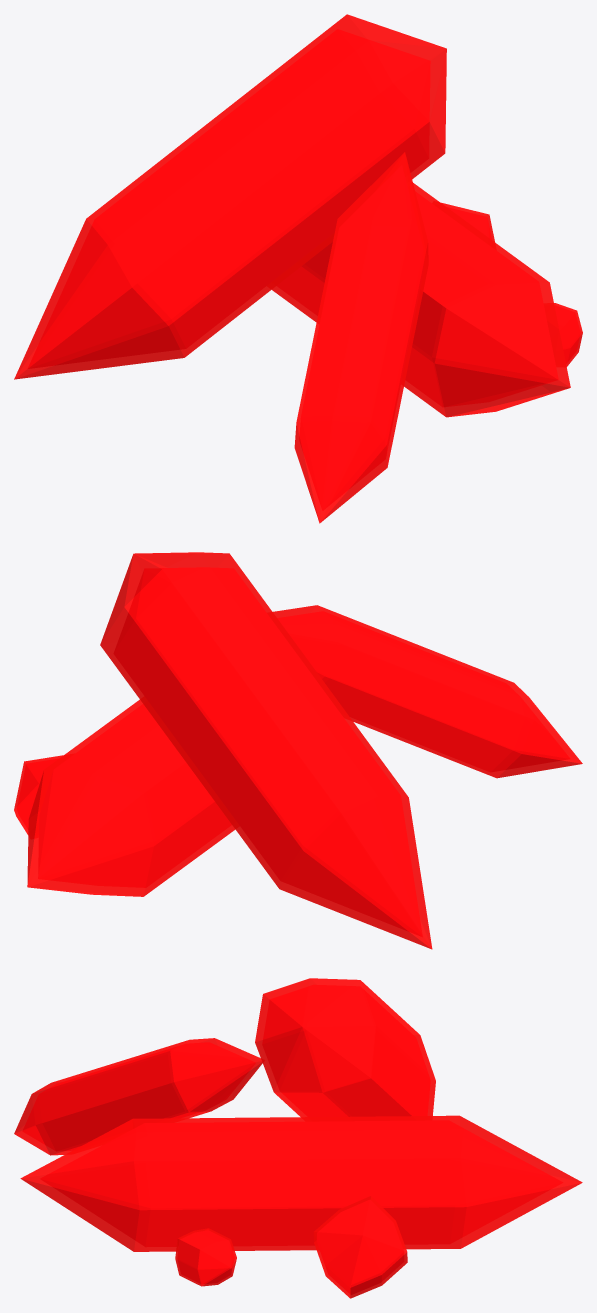
File: crystals.glb
3 views of the same model, one above another, from view 1: azimuth 30°, elevation 25°; view 2: azimuth 150°, elevation 25°; view 3: azimuth 270°, elevation 25° (orthographic). The views are drawn at different scales.
Parts seen in each view (by area): view 1: Icosphere.003, Icosphere.006, Icosphere.002, Icosphere.001, Icosphere.008, Icosphere.007, Icosphere.004, Icosphere.010, Icosphere.005; view 2: Icosphere.003, Icosphere.006, Icosphere.001, Icosphere.002, Icosphere.007, Icosphere.008, Icosphere.005, Icosphere.009; view 3: Icosphere.001, Icosphere.007, Icosphere.003, Icosphere.006, Icosphere.002, Icosphere.008, Icosphere.005, Icosphere.009, Icosphere.004, Icosphere.010.
Part boxes in pixels (box(x1,y1,x2,y2)): Icosphere.003: box(14, 14, 446, 379); Icosphere.006: box(28, 29, 430, 368); Icosphere.002: box(294, 152, 428, 523); Icosphere.001: box(272, 183, 570, 417); Icosphere.008: box(299, 165, 423, 510); Icosphere.007: box(277, 192, 558, 406); Icosphere.004: box(554, 303, 582, 366); Icosphere.010: box(555, 305, 580, 363); Icosphere.005: box(441, 202, 494, 242); Icosphere.003: box(100, 552, 432, 949); Icosphere.006: box(114, 567, 422, 936); Icosphere.001: box(27, 699, 235, 896); Icosphere.002: box(272, 605, 582, 778); Icosphere.007: box(38, 704, 231, 887); Icosphere.008: box(277, 611, 569, 771); Icosphere.005: box(14, 755, 63, 834); Icosphere.009: box(17, 759, 57, 828); Icosphere.001: box(20, 1115, 582, 1251); Icosphere.007: box(40, 1120, 562, 1246); Icosphere.003: box(255, 978, 435, 1117); Icosphere.006: box(262, 985, 430, 1116); Icosphere.002: box(14, 1038, 262, 1155); Icosphere.008: box(23, 1042, 255, 1151); Icosphere.005: box(313, 1196, 407, 1298); Icosphere.009: box(317, 1200, 403, 1294); Icosphere.004: box(175, 1228, 236, 1286); Icosphere.010: box(177, 1230, 234, 1283).
Size of the model in its own units: 0.4935 by 0.3268 by 0.6373.
